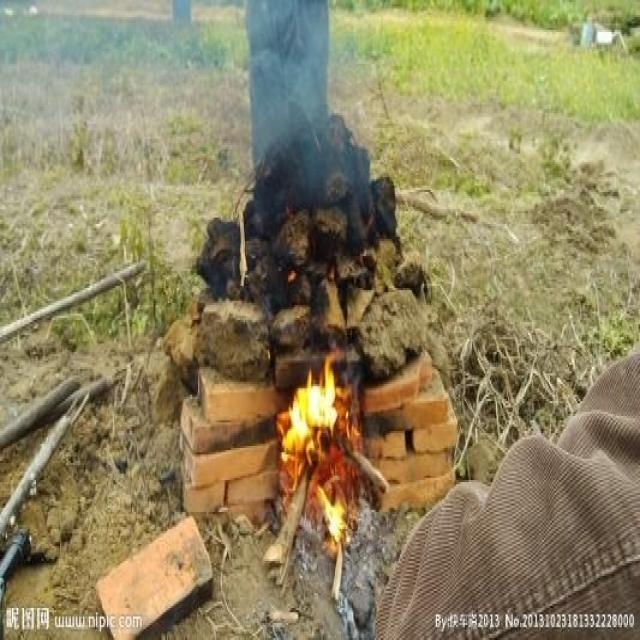Fire: (275, 348, 359, 544)
Smoke: (224, 2, 374, 177)
